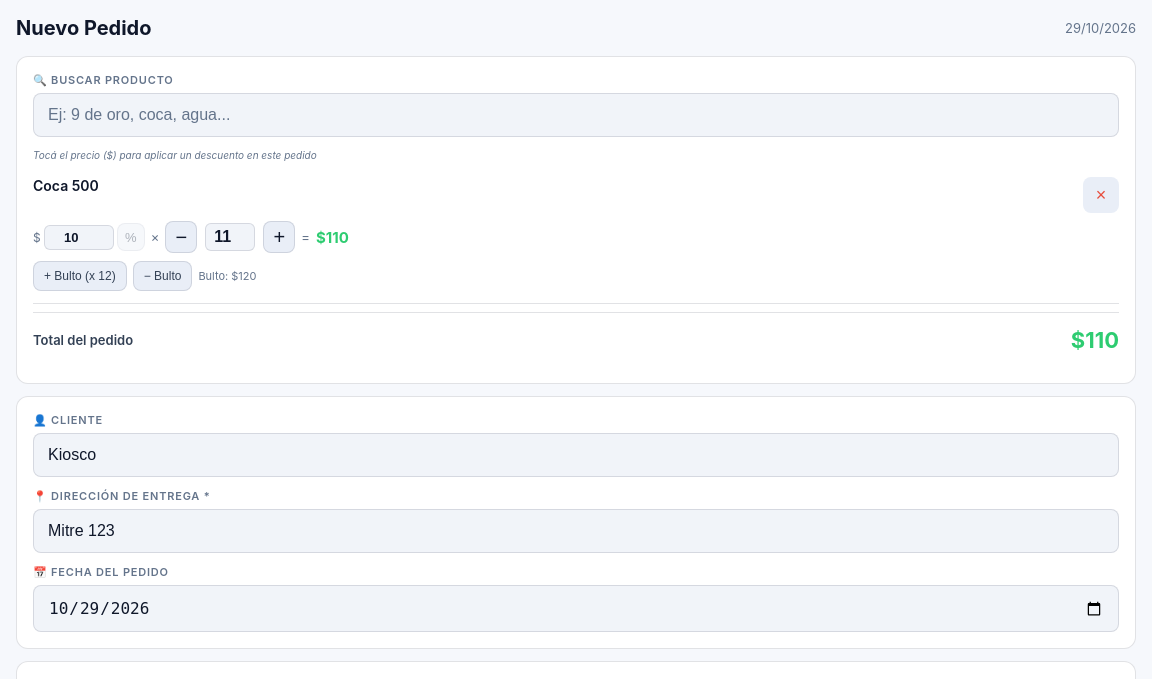
it: AC-PBU-3 Nuevo pedido: precio llevando bulto › AC-PBU-3 al llegar a 1 bulto el precio baja a $8 y al bajar vuelve a $10
The image size is (1152, 679).
Expected: the number field named "Tocá para cambiar el precio (descuento en este pedido)" holds "10", [44,224,114,250]
Click the button "+": (279, 237) [263,221,295,253]
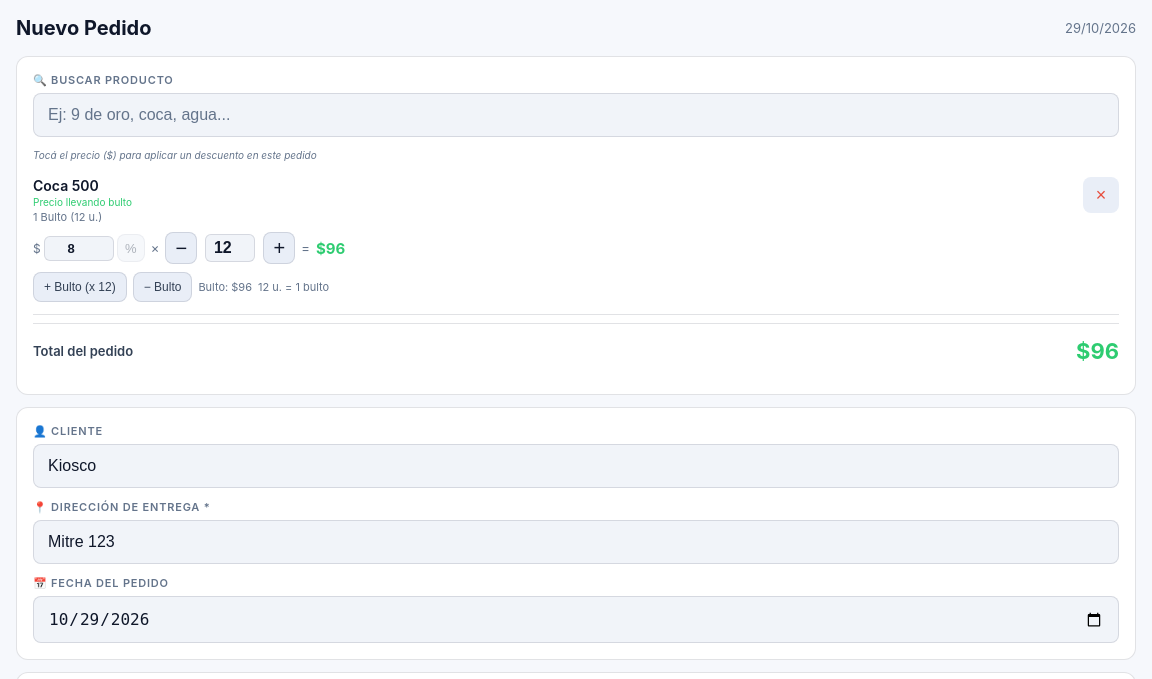
Now the number field named "Tocá para cambiar el precio (descuento en este pedido)" holds "8", box [44,236,114,260]
Now the text "Precio llevando bulto" is shown, box [33,196,132,208]
Click the button "−": (181, 248) [165,232,197,264]
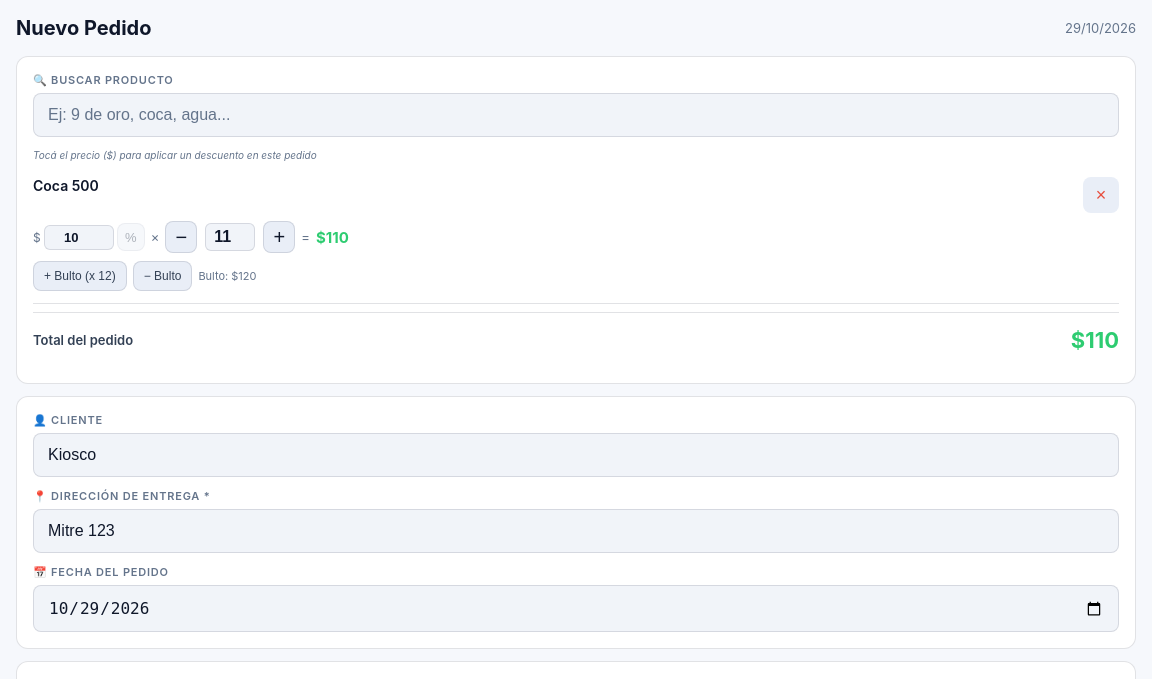
Now the number field named "Tocá para cambiar el precio (descuento en este pedido)" holds "10", box [44,224,114,250]
Now the text with test id "precio-por-bulto" is gone
